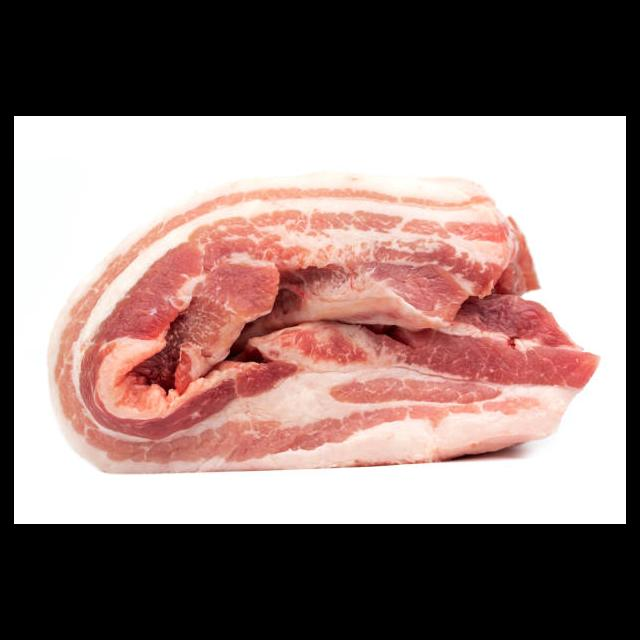pork: (44, 164, 598, 476)
